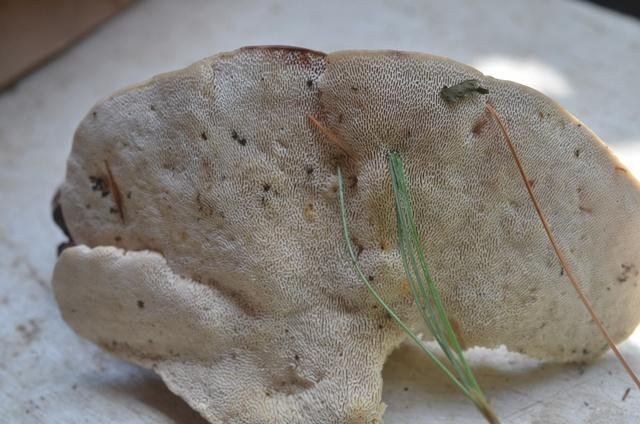Non-edible Mushroom: (48, 43, 639, 423)
